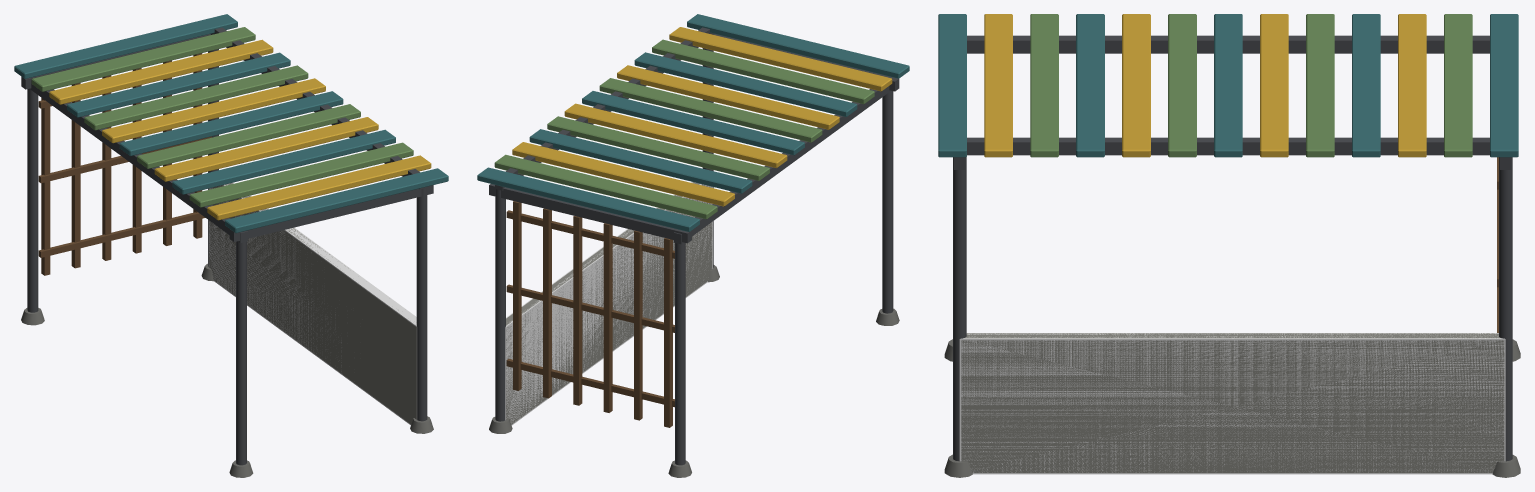
The model's file is stop-3.glb.
3 views of the same model, side by side, from view 1: azimuth 30°, elevation 25°; view 2: azimuth 150°, elevation 25°; view 3: azimuth 270°, elevation 25° (orthographic). The views are drawn at different scales.
Parts seen in each view (by area): view 1: 06_#85857f, 02_paint0, 03_paint6, 04_paint5, 00_#4c4e52, 05_#6a5038, solid, 01_#6e6e6a; view 2: 02_paint0, 04_paint5, 03_paint6, 05_#6a5038, 00_#4c4e52, 06_#85857f, solid, 01_#6e6e6a; view 3: 06_#85857f, solid, 02_paint0, 03_paint6, 04_paint5, 00_#4c4e52, 01_#6e6e6a.
Part boxes in pixels (bbox=[...]): 06_#85857f: bbox=[209, 183, 416, 424]; 02_paint0: bbox=[14, 14, 448, 233]; 03_paint6: bbox=[49, 39, 431, 220]; 04_paint5: bbox=[31, 27, 413, 207]; 00_#4c4e52: bbox=[21, 27, 433, 465]; 05_#6a5038: bbox=[38, 53, 211, 275]; solid: bbox=[208, 182, 417, 425]; 01_#6e6e6a: bbox=[21, 263, 433, 477]; 02_paint0: bbox=[477, 14, 909, 231]; 04_paint5: bbox=[494, 39, 874, 219]; 03_paint6: bbox=[512, 27, 892, 206]; 05_#6a5038: bbox=[506, 201, 674, 427]; 00_#4c4e52: bbox=[489, 27, 899, 465]; 06_#85857f: bbox=[506, 182, 712, 424]; solid: bbox=[505, 182, 712, 425]; 01_#6e6e6a: bbox=[489, 265, 899, 477]; 06_#85857f: bbox=[961, 333, 1504, 472]; solid: bbox=[959, 333, 1505, 474]; 02_paint0: bbox=[938, 14, 1518, 157]; 03_paint6: bbox=[984, 14, 1426, 157]; 04_paint5: bbox=[1030, 14, 1472, 157]; 00_#4c4e52: bbox=[953, 35, 1512, 461]; 01_#6e6e6a: bbox=[944, 339, 1520, 477].
Bounding box in the file's own units: 2.25 × 2.56 × 4.05.
